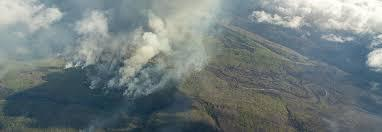smoke: (0, 1, 216, 100), (244, 2, 382, 68)
